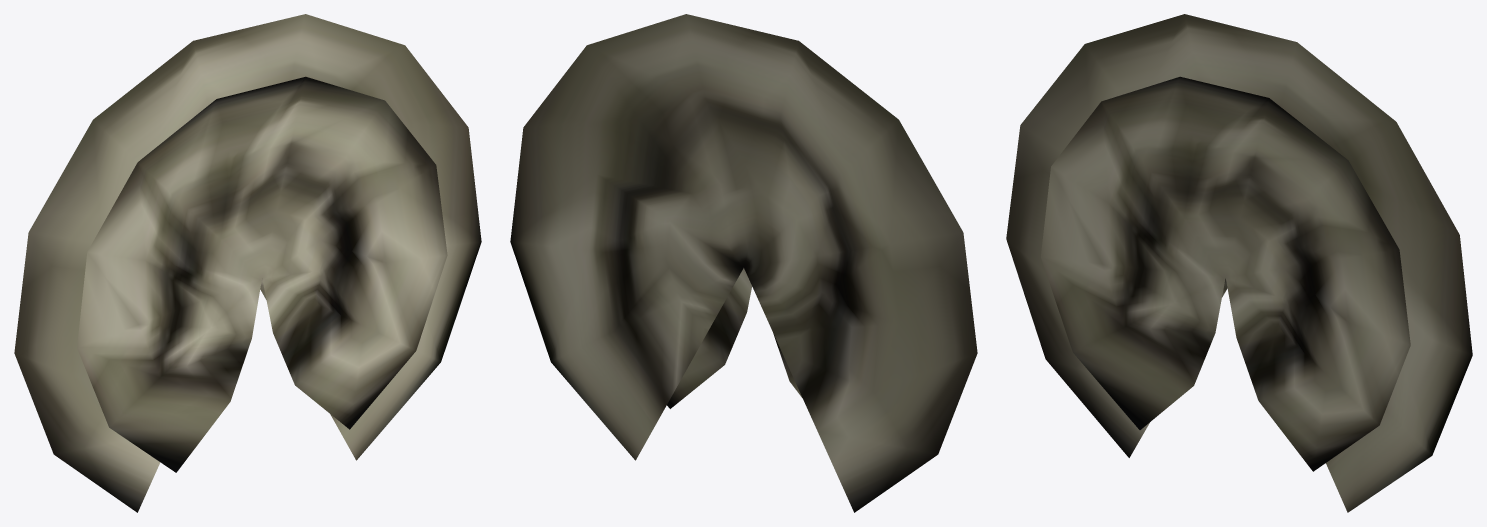
File: bossAura.fbx
3 renders of one model, left to right at view 1: azimuth 30°, elevation 25°; view 2: azimuth 150°, elevation 25°; view 3: azimuth 330°, elevation 25°, orthographic.
Visible parts, largest first — view 1: inner, outer; view 2: outer, inner; view 3: inner, outer.
Boxes of the visible parts, x1,y1,x2,y2 form: inner: [77, 76, 447, 472]; outer: [14, 14, 481, 512]; outer: [510, 14, 977, 512]; inner: [667, 268, 802, 408]; inner: [1041, 76, 1410, 471]; outer: [1006, 14, 1472, 512].
Size of the model in its own units: 674 by 634 by 35.02.
Materials: 1 (1 with a texture image).
